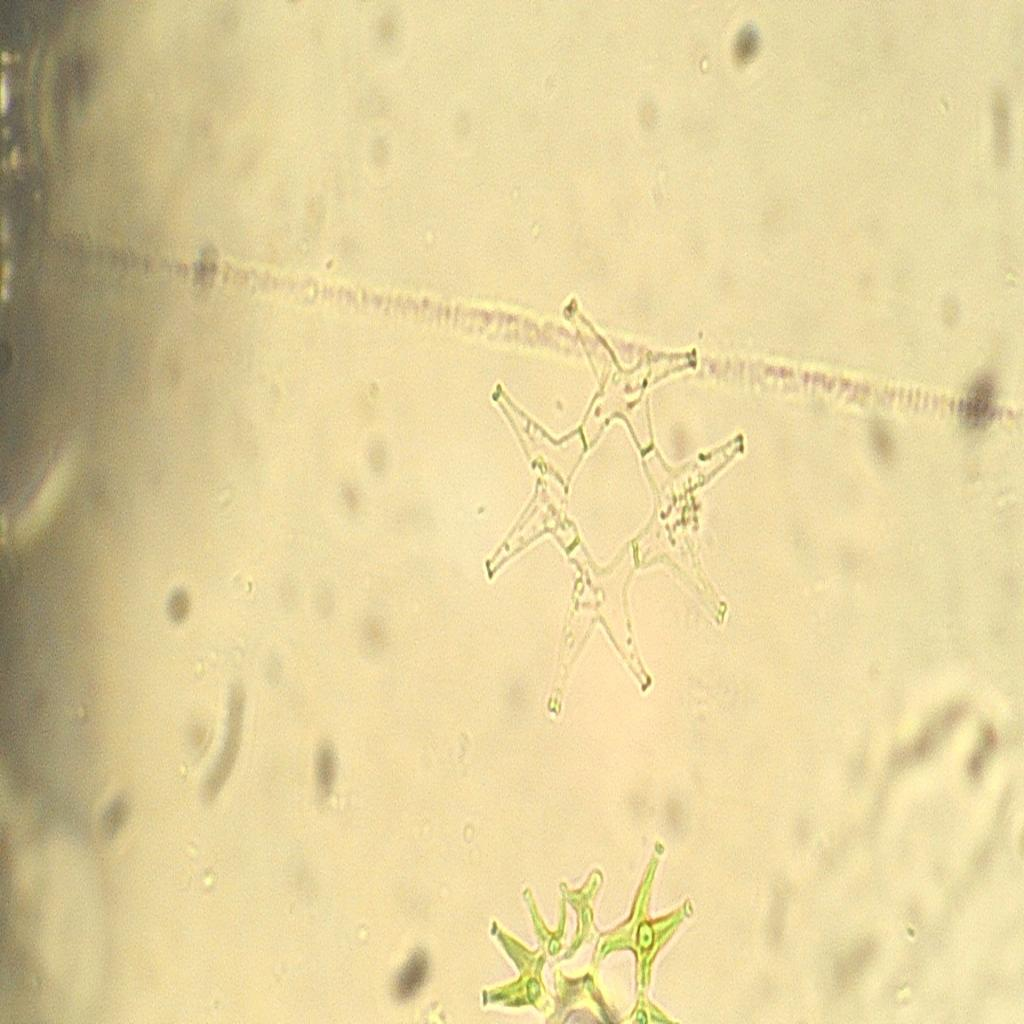Pediastrum_75TH: (466, 264, 756, 748)
